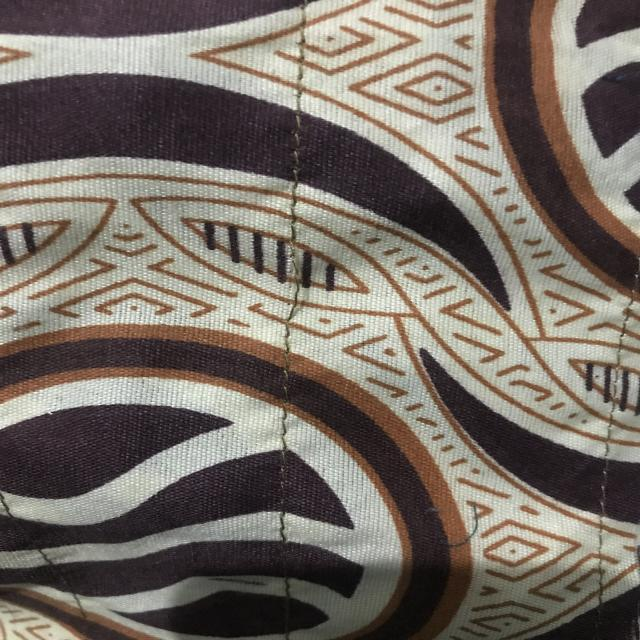good: (258, 374, 303, 487)
skip: (256, 223, 312, 335)
